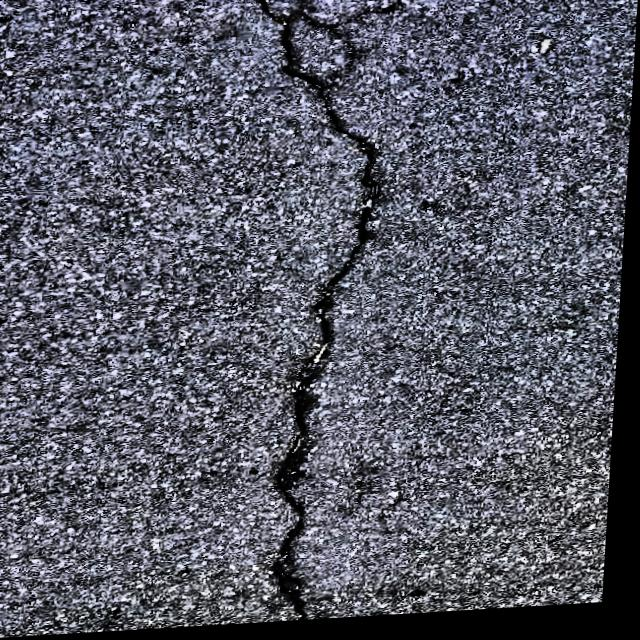cracks: (260, 0, 380, 620)
